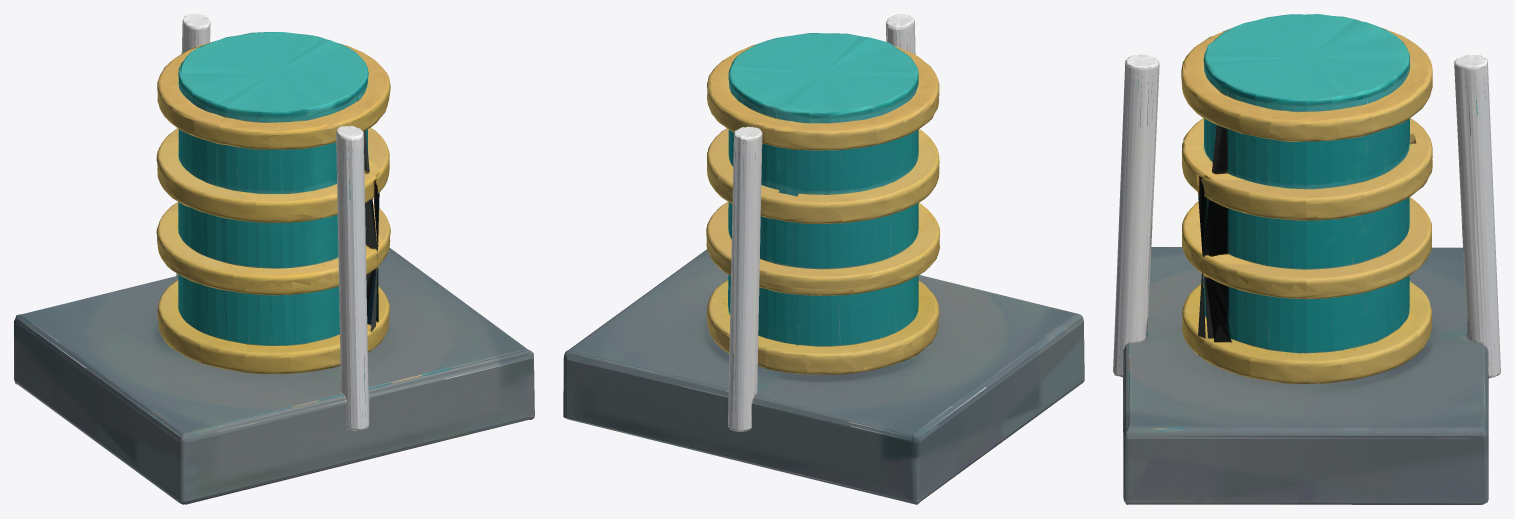
Rendered from particle-foundry.glb.
3 views of the same model, side by side, from view 1: azimuth 30°, elevation 25°; view 2: azimuth 150°, elevation 25°; view 3: azimuth 270°, elevation 25° (orthographic). The views are drawn at different scales.
Bounding box in the file's own units: 1 × 0.8945 × 0.8789.
1 material, 1 textured.
